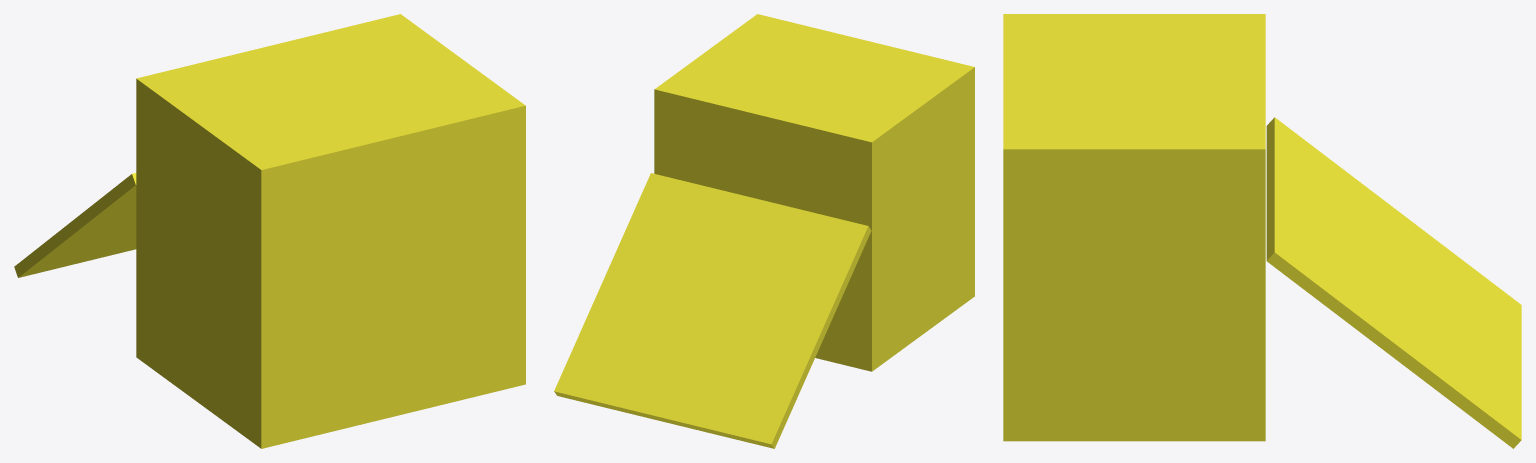
File: chesse.FBX
3 renders of one model, left to right at view 1: azimuth 30°, elevation 25°; view 2: azimuth 150°, elevation 25°; view 3: azimuth 270°, elevation 25°, orthographic. The views are drawn at different scales.
Parts seen in each view (by area): view 1: Box002; view 2: Box002; view 3: Box002.
Boxes of the visible parts, x1,y1,x2,y2 form: Box002: (14, 14, 525, 448); Box002: (554, 14, 974, 448); Box002: (1003, 14, 1521, 448).
Size of the model in its own units: 59.07 by 61.09 by 95.72.
Materials: 1 (1 with a texture image).
